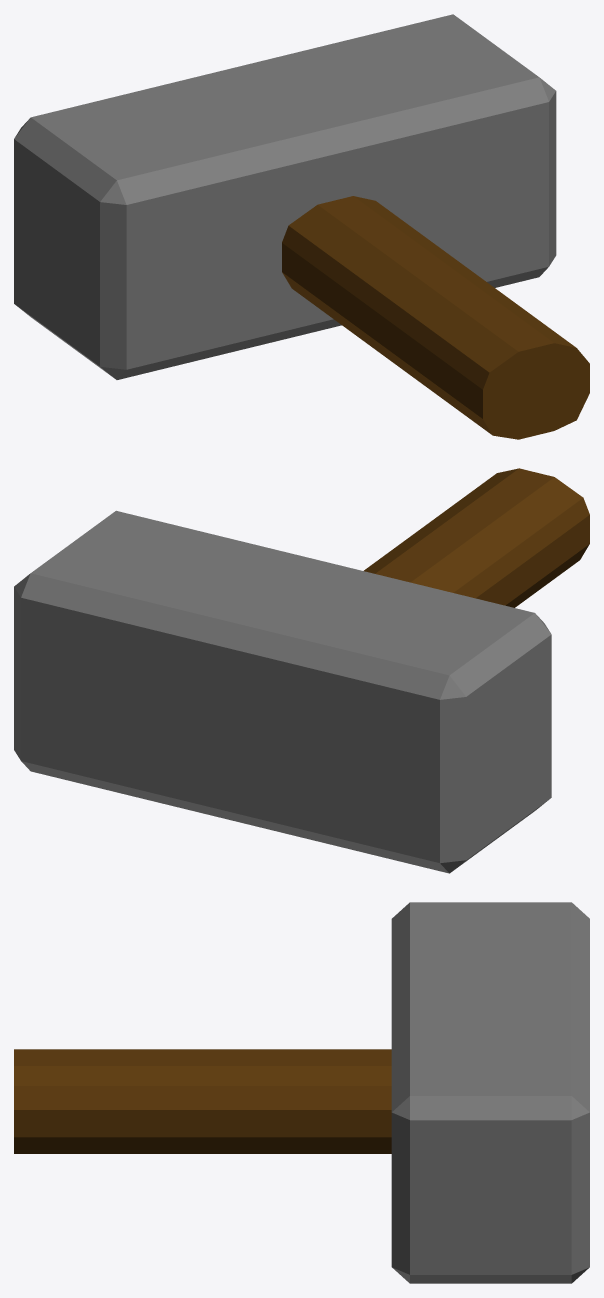
Rendered from HammerBall.fbx.
3 renders of one model, top to bottom at view 1: azimuth 30°, elevation 25°; view 2: azimuth 150°, elevation 25°; view 3: azimuth 270°, elevation 25°, orthographic. The views are drawn at different scales.
Parts seen in each view (by area): view 1: Empty_Mesh; view 2: Empty_Mesh; view 3: Empty_Mesh.
Boxes of the visible parts, left/top/right/bottom form: Empty_Mesh: left=14, top=14, right=589, bottom=439; Empty_Mesh: left=14, top=468, right=589, bottom=873; Empty_Mesh: left=14, top=902, right=589, bottom=1283.
Size of the model in its own units: 277 by 116 by 322.
